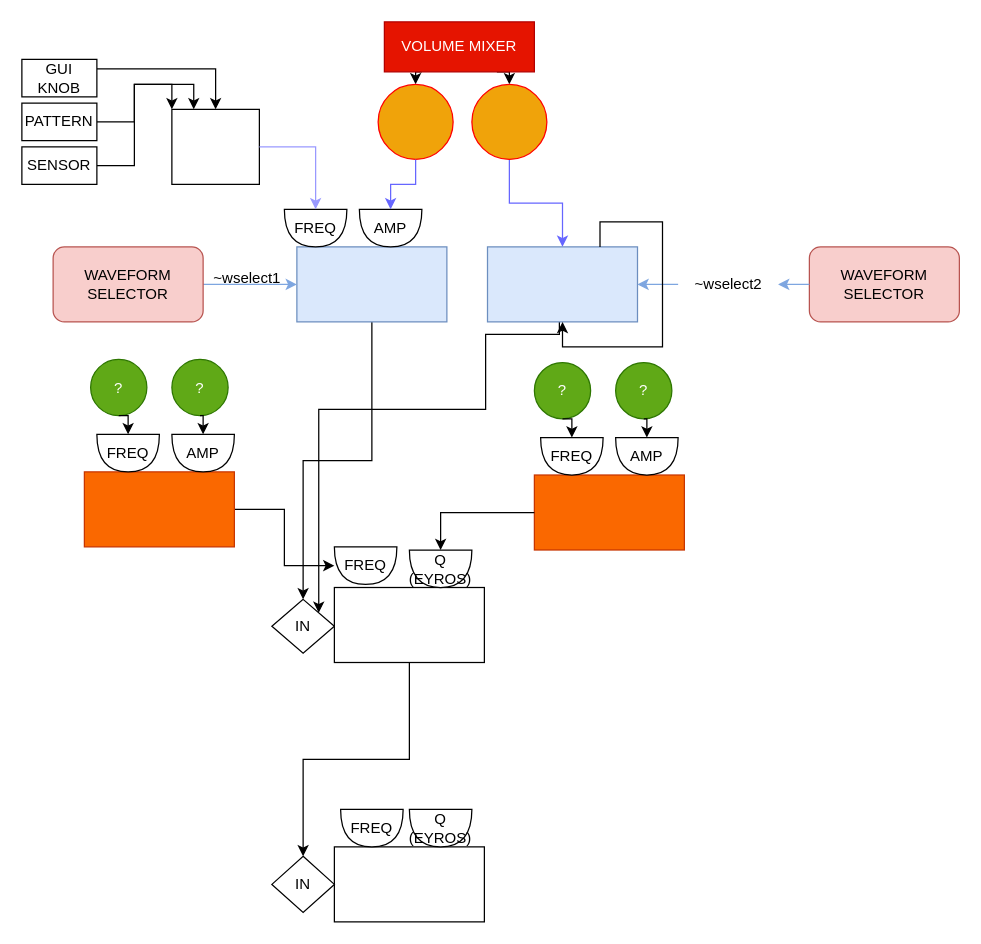
This 981x944 diagram has some shape labels left out. The box of each missing label's shape, as (x1, y1, x2, y2) in pixels:
FREQ CONTROL: (171, 108, 259, 184)
LOW FREQUENCY OSCILLATOR 1: (83, 471, 234, 547)
LOW FREQUENCY OSCILLATOR 2: (533, 474, 684, 550)
LOW PASS FILTER: (333, 586, 484, 662)
OSC 1 VOLUME: (377, 83, 453, 159)
OSC 2 VOLUME: (471, 83, 547, 159)
RESONANCE: (333, 846, 484, 922)
~source1: (296, 246, 447, 322)
~source2: (486, 246, 638, 322)
